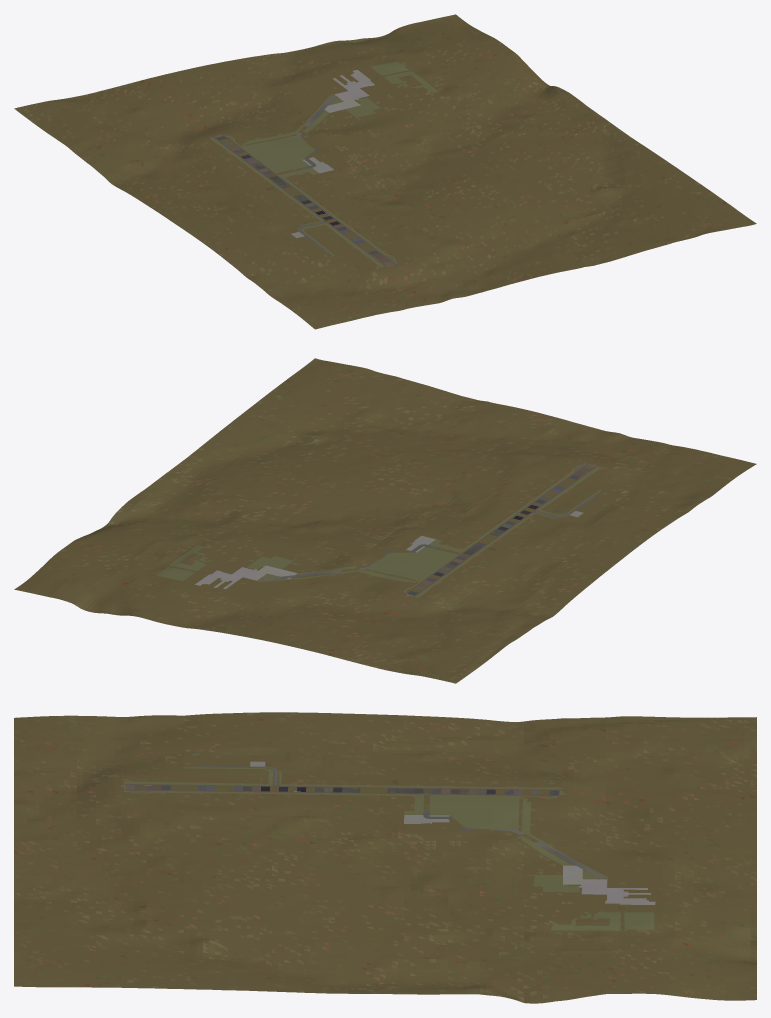
The model's file is sdsc_pavimentos_precisos.glb.
3 renders of one model, top to bottom at view 1: azimuth 30°, elevation 25°; view 2: azimuth 150°, elevation 25°; view 3: azimuth 270°, elevation 25°, orthographic. The views are drawn at different scales.
Parts seen in each view (by area): view 1: sdsc_pavimentos_precisos; view 2: sdsc_pavimentos_precisos; view 3: sdsc_pavimentos_precisos.
Part boxes in pixels (x1,y1,x2,y2): sdsc_pavimentos_precisos: [14, 14, 756, 329]; sdsc_pavimentos_precisos: [14, 358, 756, 683]; sdsc_pavimentos_precisos: [14, 712, 756, 1003].
Bounding box in the file's own units: 2500 × 115 × 2950.
Materials: 8 (6 with a texture image).
